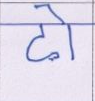o_matra: (57, 8, 77, 62)
